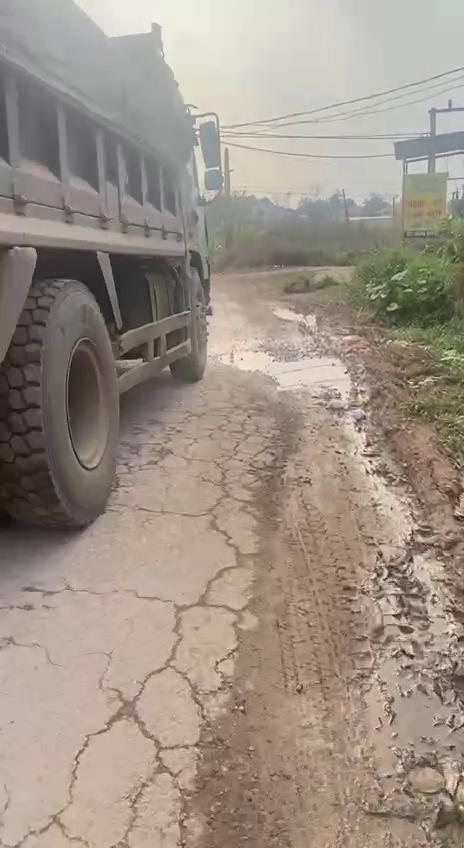pothole: (221, 345, 352, 403)
